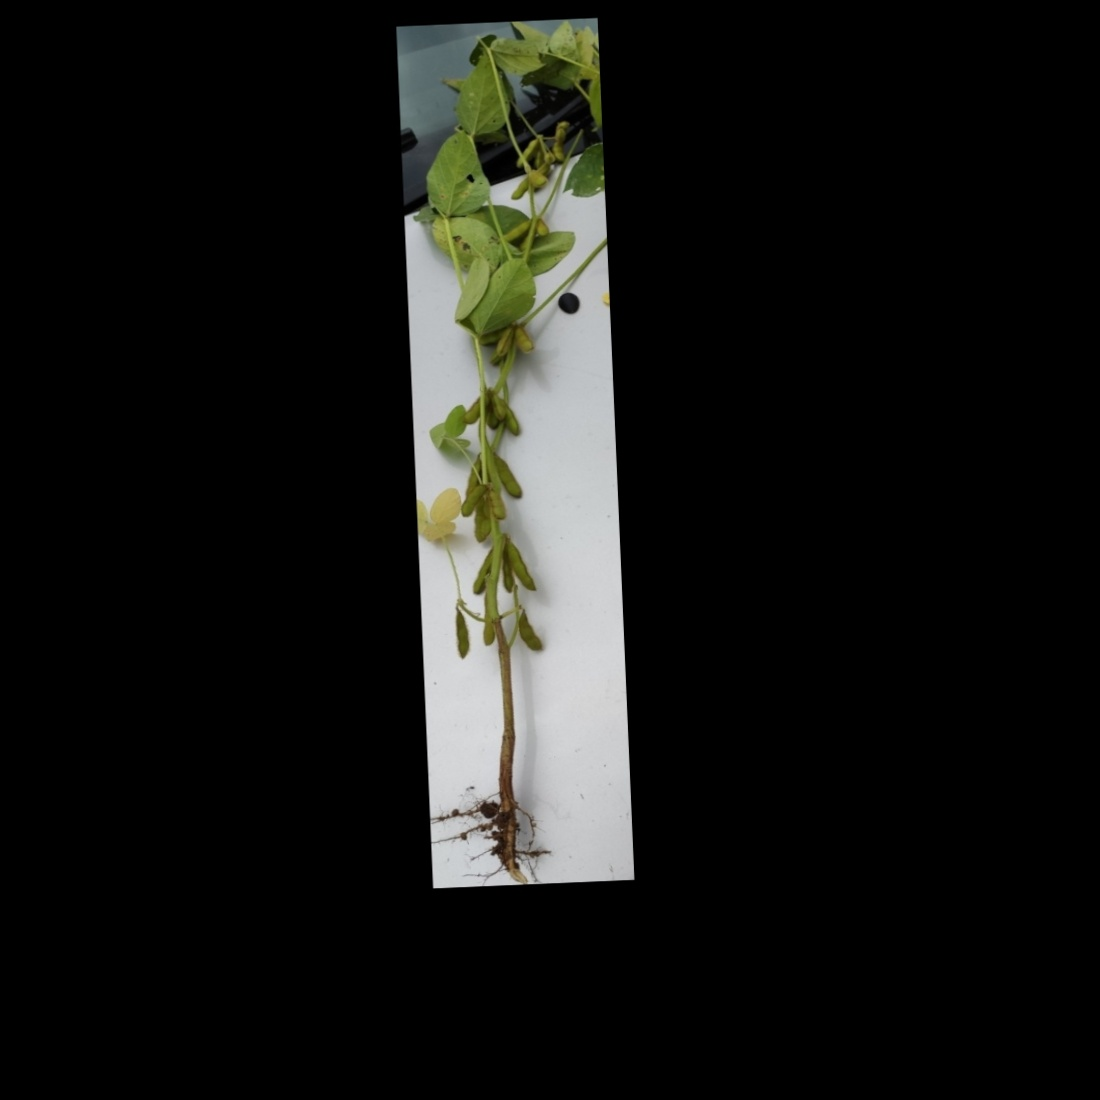pod: (506, 541, 537, 595), (492, 454, 527, 500), (514, 608, 544, 656), (456, 482, 489, 519), (452, 606, 471, 661), (515, 134, 541, 169), (511, 324, 535, 355)
soy: (407, 33, 629, 860)
